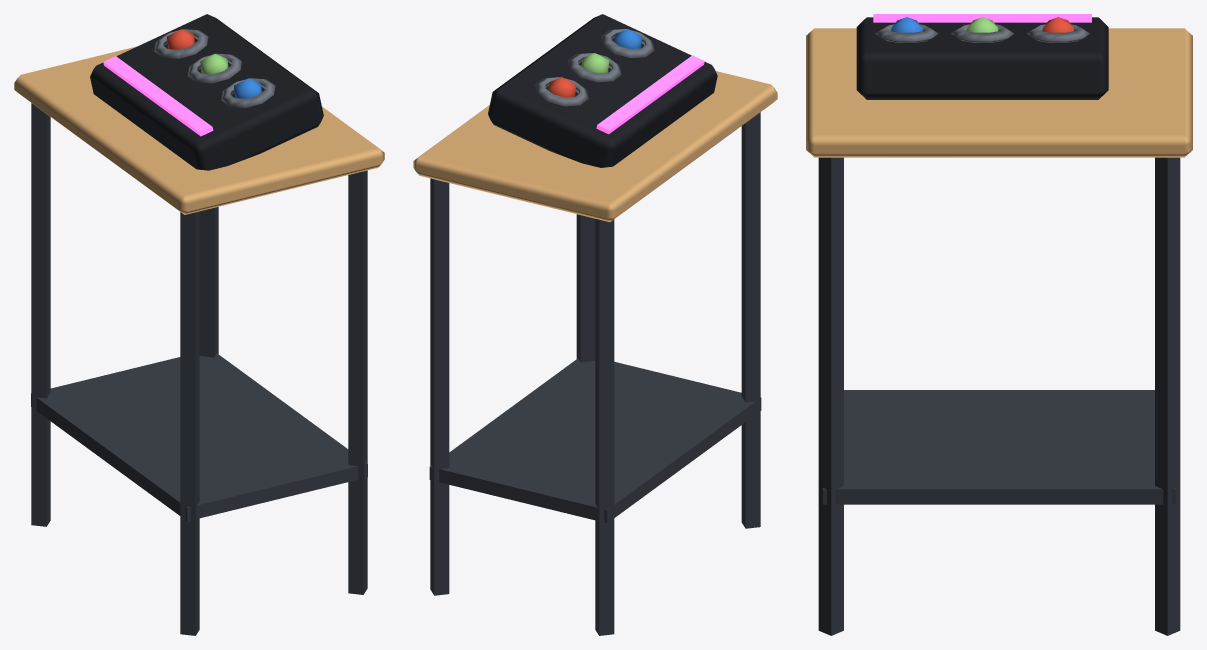
Rendered from station_processing_ausstattung_3_1.glb.
The picture shows the model from 3 angles, left to right: view 1: azimuth 30°, elevation 25°; view 2: azimuth 150°, elevation 25°; view 3: azimuth 270°, elevation 25°; orthographic projection. The views are drawn at different scales.
Parts seen in each view (by area): view 1: station_processing_ausstattung_3_1; view 2: station_processing_ausstattung_3_1; view 3: station_processing_ausstattung_3_1.
Boxes of the visible parts, x1,y1,x2,y2 form: station_processing_ausstattung_3_1: [14, 14, 384, 635]; station_processing_ausstattung_3_1: [413, 14, 777, 635]; station_processing_ausstattung_3_1: [806, 14, 1192, 635].
Bounding box in the file's own units: 0.32 × 0.7504 × 0.46.
